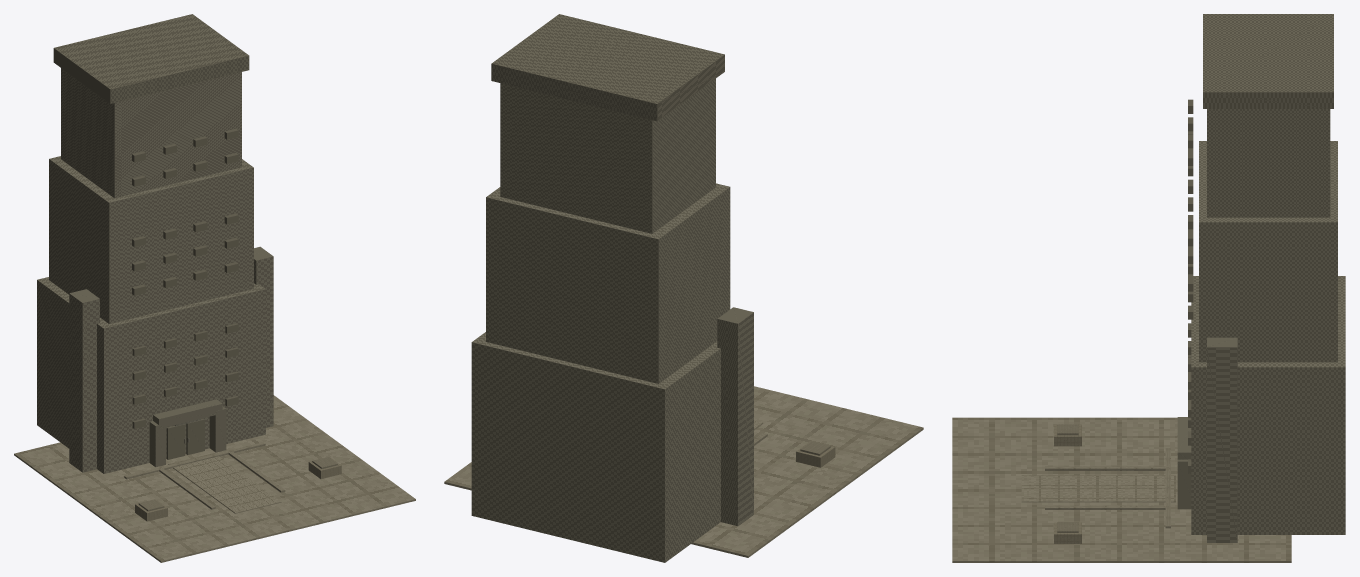
The model's file is tower_plaza.glb.
3 views of the same model, side by side, from view 1: azimuth 30°, elevation 25°; view 2: azimuth 150°, elevation 25°; view 3: azimuth 270°, elevation 25° (orthographic). The views are drawn at different scales.
Visible parts, largest first — view 1: tower_plaza; view 2: tower_plaza; view 3: tower_plaza.
Part boxes in pixels (left/top/right/bottom): tower_plaza: left=14, top=14, right=415, bottom=562; tower_plaza: left=444, top=14, right=923, bottom=562; tower_plaza: left=952, top=14, right=1345, bottom=562.
Bounding box in the file's own units: 22 × 31.34 × 25.5.
2 materials, 2 textured.
